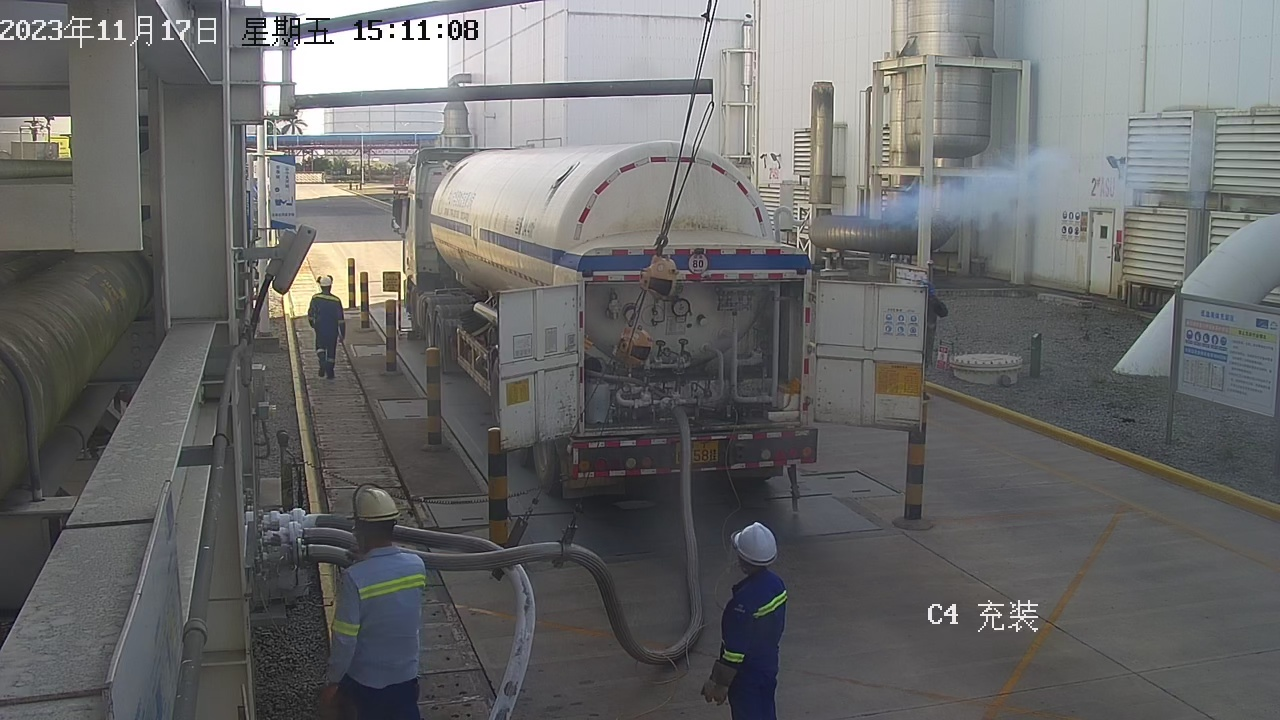Head_with_Helmet: (322, 481, 418, 564), (701, 502, 789, 579), (305, 268, 343, 295)
Uniform: (295, 540, 443, 720), (683, 559, 809, 720), (286, 288, 355, 376)
